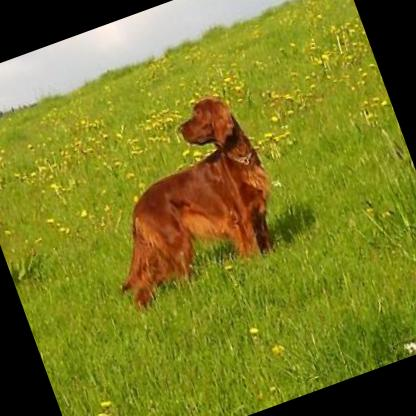Irish_setter: (66, 86, 296, 314)
